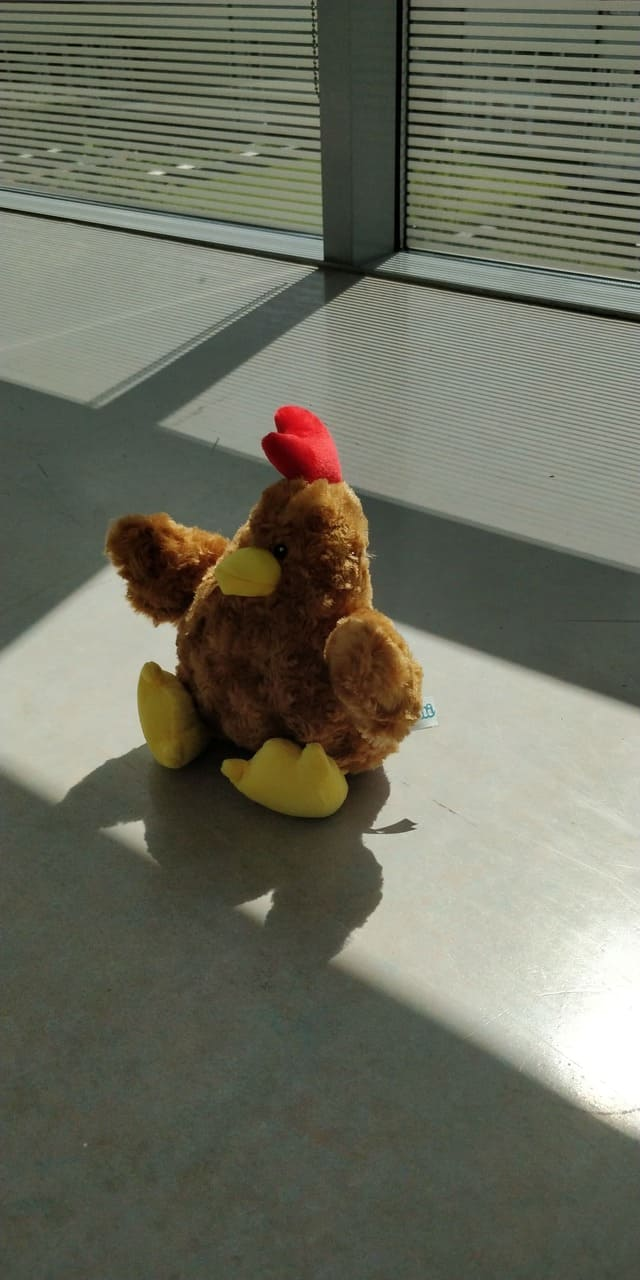fakeChicken: (104, 406, 424, 820)
